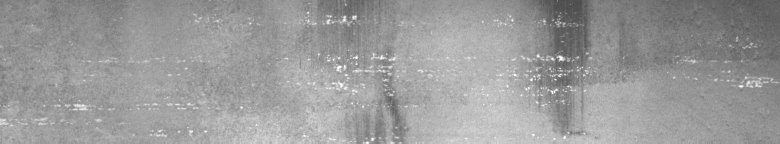hc: (497, 12, 601, 106)
